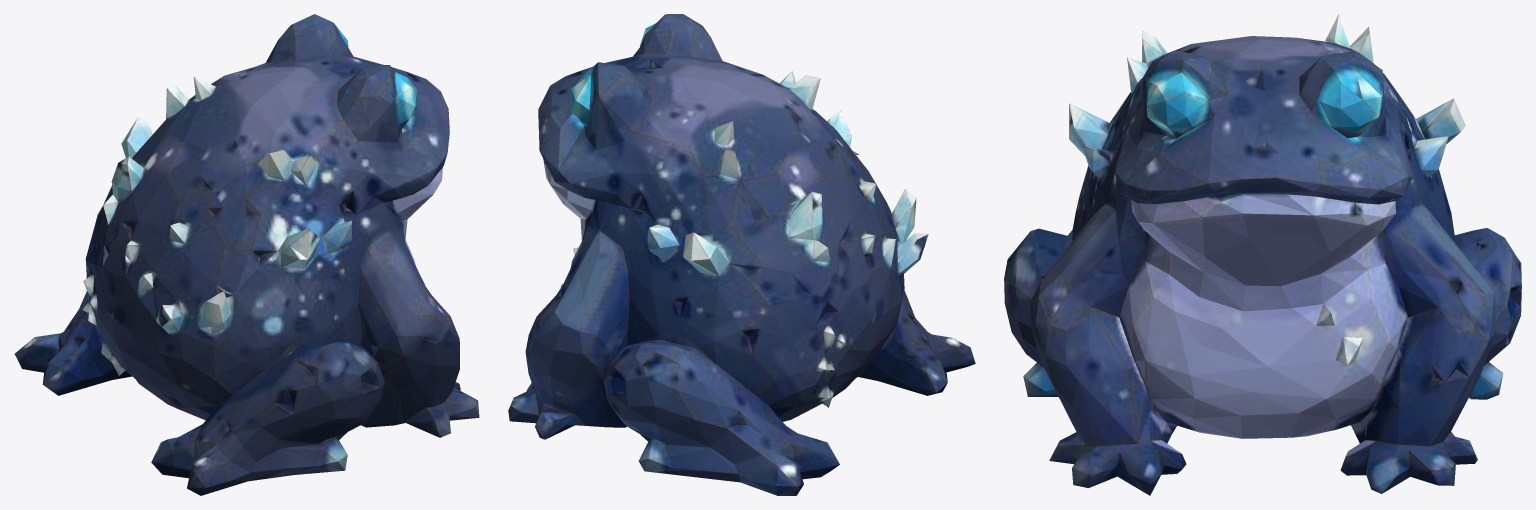
File: foe_mireToad.glb
The picture shows the model from 3 angles, left to right: view 1: azimuth 30°, elevation 25°; view 2: azimuth 150°, elevation 25°; view 3: azimuth 270°, elevation 25°; orthographic projection. The views are drawn at different scales.
Visible parts, largest first — view 1: tripo_node_7785f4fd-11d3-4d33-8347-64db3d2fc92f.001; view 2: tripo_node_7785f4fd-11d3-4d33-8347-64db3d2fc92f.001; view 3: tripo_node_7785f4fd-11d3-4d33-8347-64db3d2fc92f.001.
Boxes of the visible parts, x1,y1,x2,y2 form: tripo_node_7785f4fd-11d3-4d33-8347-64db3d2fc92f.001: (14, 14, 479, 495); tripo_node_7785f4fd-11d3-4d33-8347-64db3d2fc92f.001: (508, 14, 975, 495); tripo_node_7785f4fd-11d3-4d33-8347-64db3d2fc92f.001: (1004, 14, 1521, 495).
Size of the model in its own units: 0.9013 by 0.8669 by 0.9962.
Materials: 1 (1 with a texture image).
